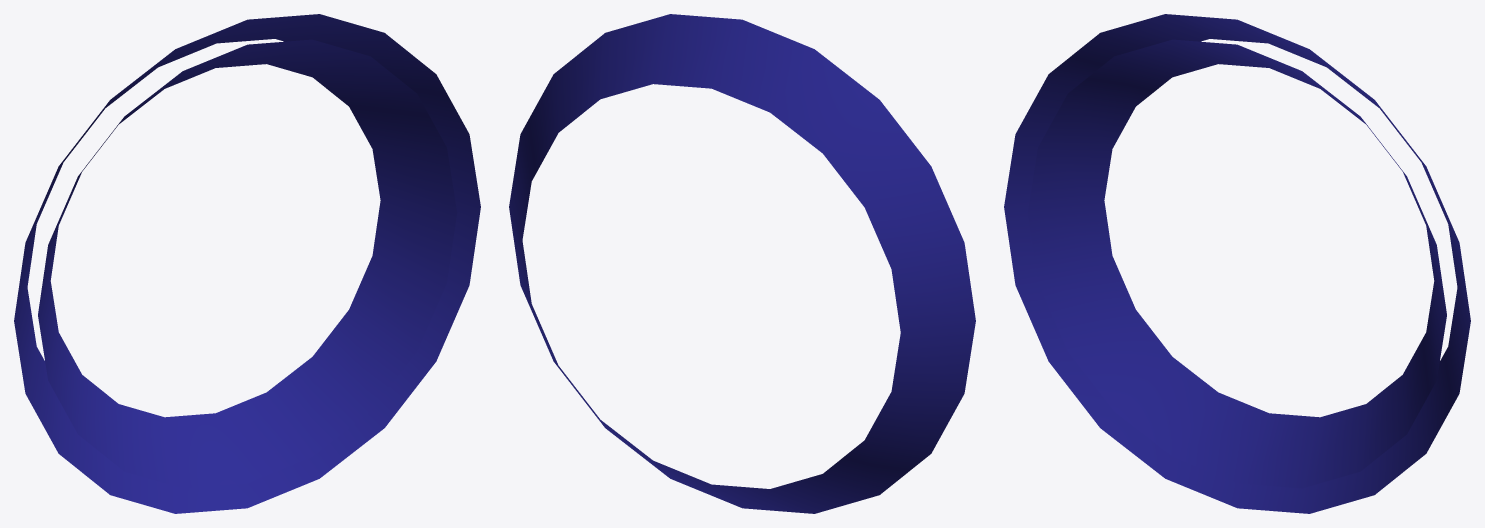
The picture shows the model from 3 angles, left to right: view 1: azimuth 30°, elevation 25°; view 2: azimuth 150°, elevation 25°; view 3: azimuth 330°, elevation 25°; orthographic projection.
Size of the model in its own units: 0.9858 by 0.9858 by 0.1166.
